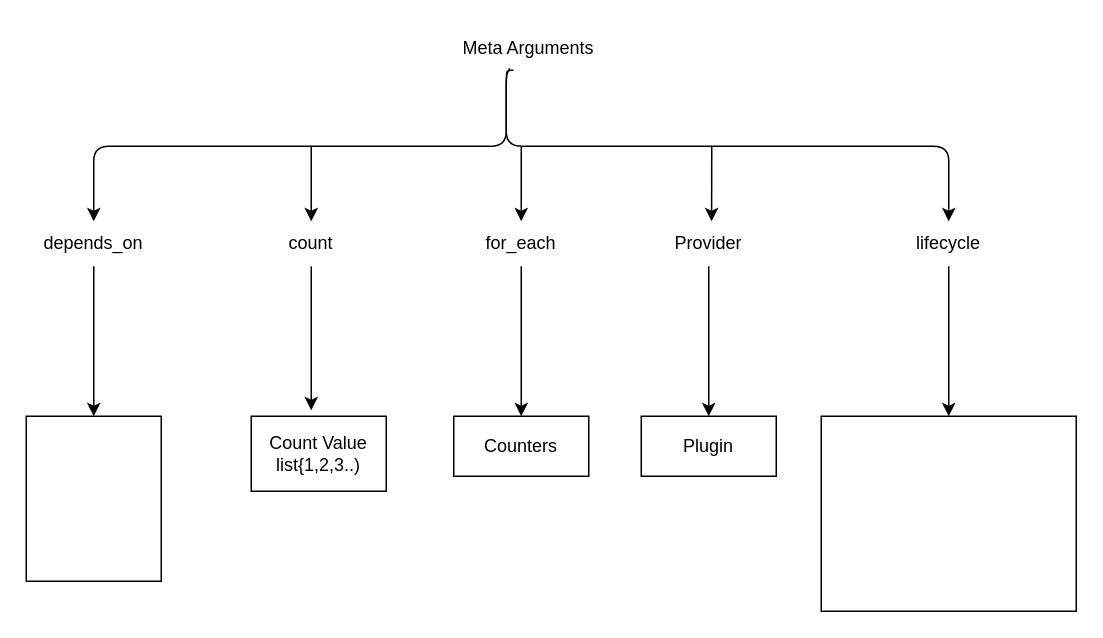
Some shapes in this 1103 by 638 pixel diagram are drawn without their labels. The box of each missing label's shape, as (x1, y1, x2, y2) in pixels:
Create befrore destroy Prevent Destroy Ignore Changes Replace triggered by: (820, 415, 1076, 611)
Resource A depend on Resource B { Explicit Dependancy}: (25, 415, 161, 581)
